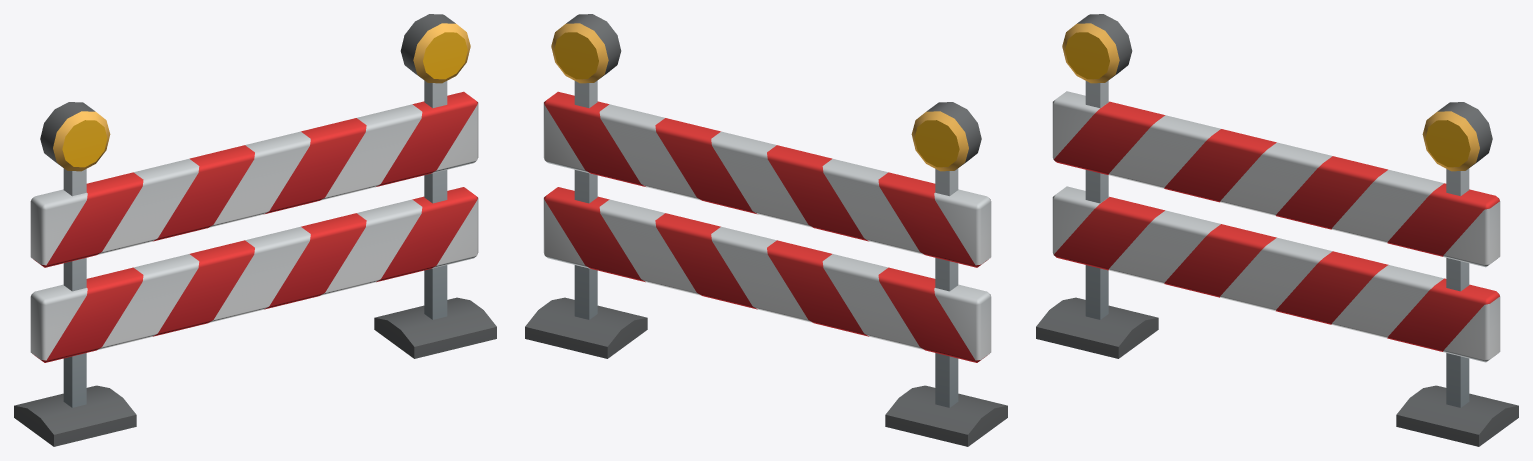
File: Barrier_05.fbx
The picture shows the model from 3 angles, left to right: view 1: azimuth 30°, elevation 25°; view 2: azimuth 150°, elevation 25°; view 3: azimuth 330°, elevation 25°; orthographic projection.
Visible parts, largest first — view 1: Barrier_05; view 2: Barrier_05; view 3: Barrier_05.
Part boxes in pixels (<box>): Barrier_05: <box>14,14,496,446</box>; Barrier_05: <box>525,14,1007,446</box>; Barrier_05: <box>1036,14,1518,446</box>.
Size of the model in its own units: 246 by 38.38 by 167.
